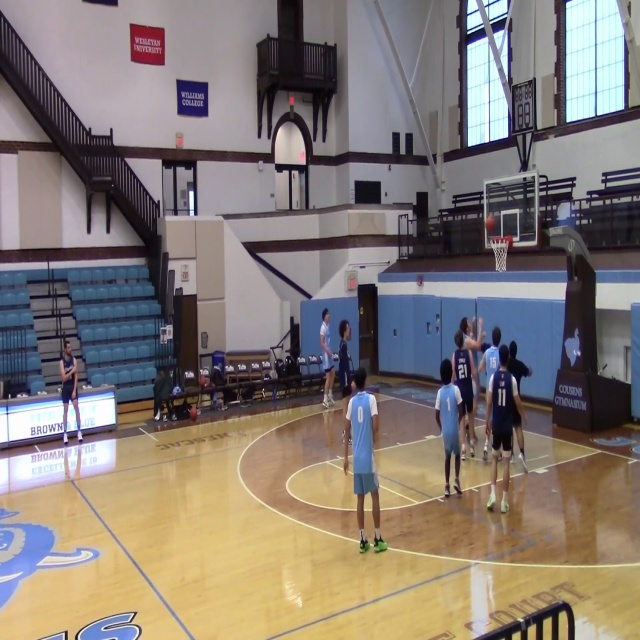Basketball: (485, 215, 495, 232)
